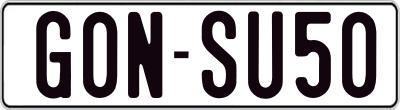0: (342, 10, 382, 101), (80, 12, 115, 99)
5: (293, 12, 334, 98)
G: (35, 8, 76, 101)
N: (127, 10, 165, 102)
S: (199, 9, 237, 98)
U: (247, 9, 286, 99)
